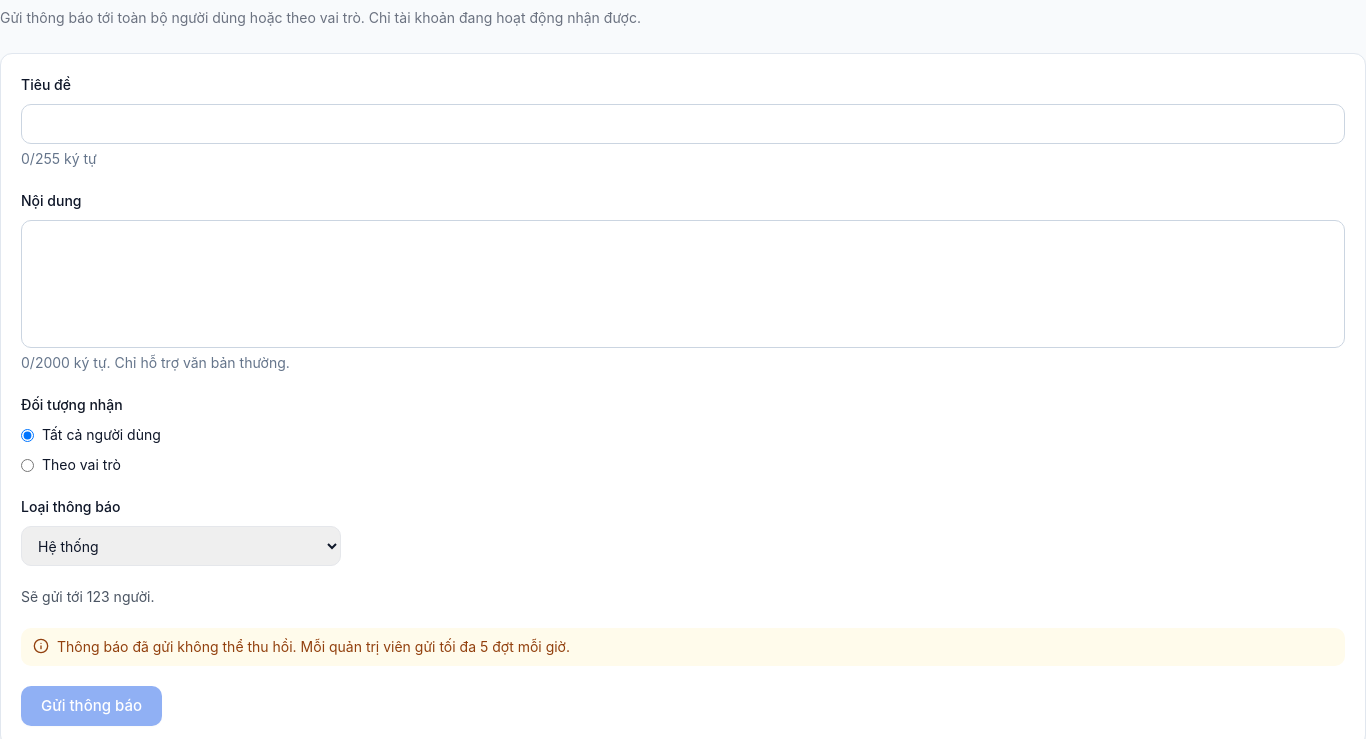
Test: AdminBroadcastNotificationsPage › gửi qua hộp xác nhận 'Gửi tới N người?', body đã trim, toast nêu số người, form được xoá
Check: the text "Sẽ gửi tới 123 người." is shown, box [21, 588, 154, 605]
Type "  Bảo trì hệ thống  " into the field labelled "Tiêu đề" at (683, 124), box [21, 104, 1345, 144]
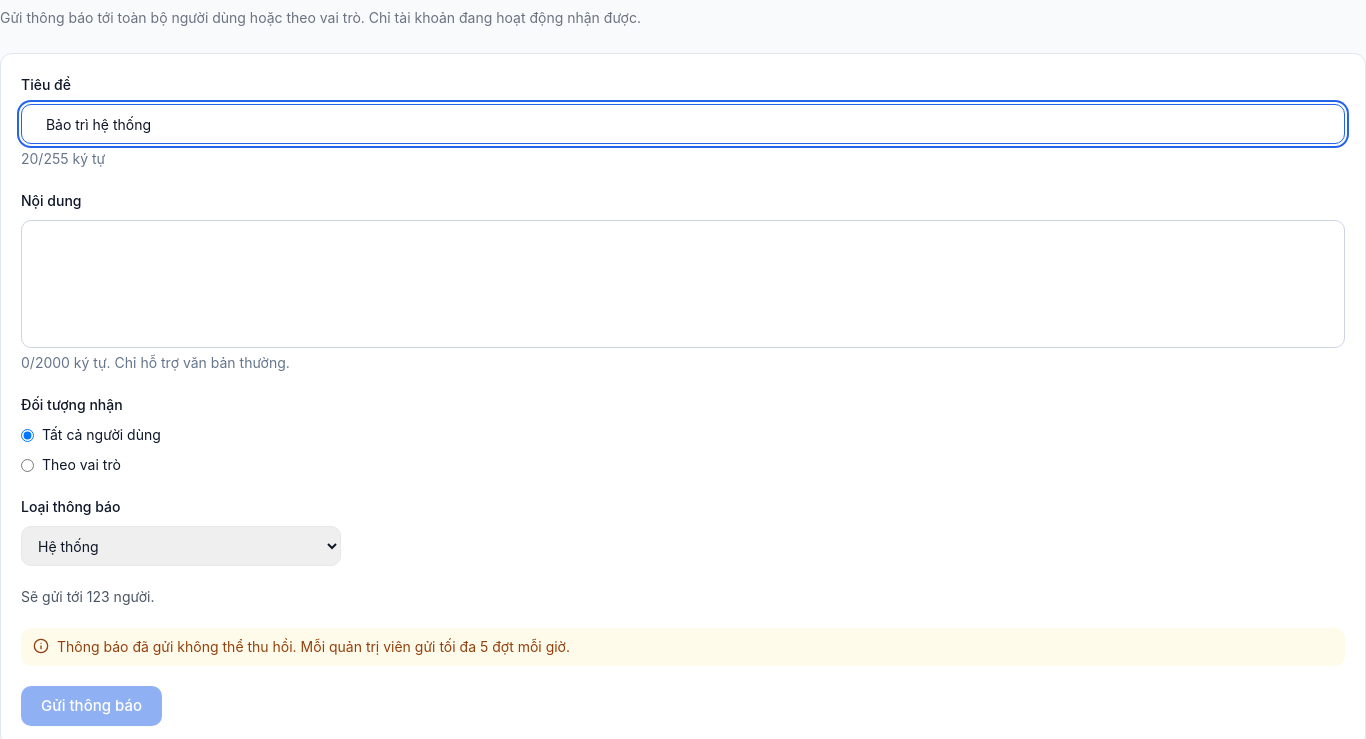
Type "Hệ thống bảo trì lúc 22h" into the text box labelled "Nội dung" at (683, 284), box [21, 220, 1345, 348]
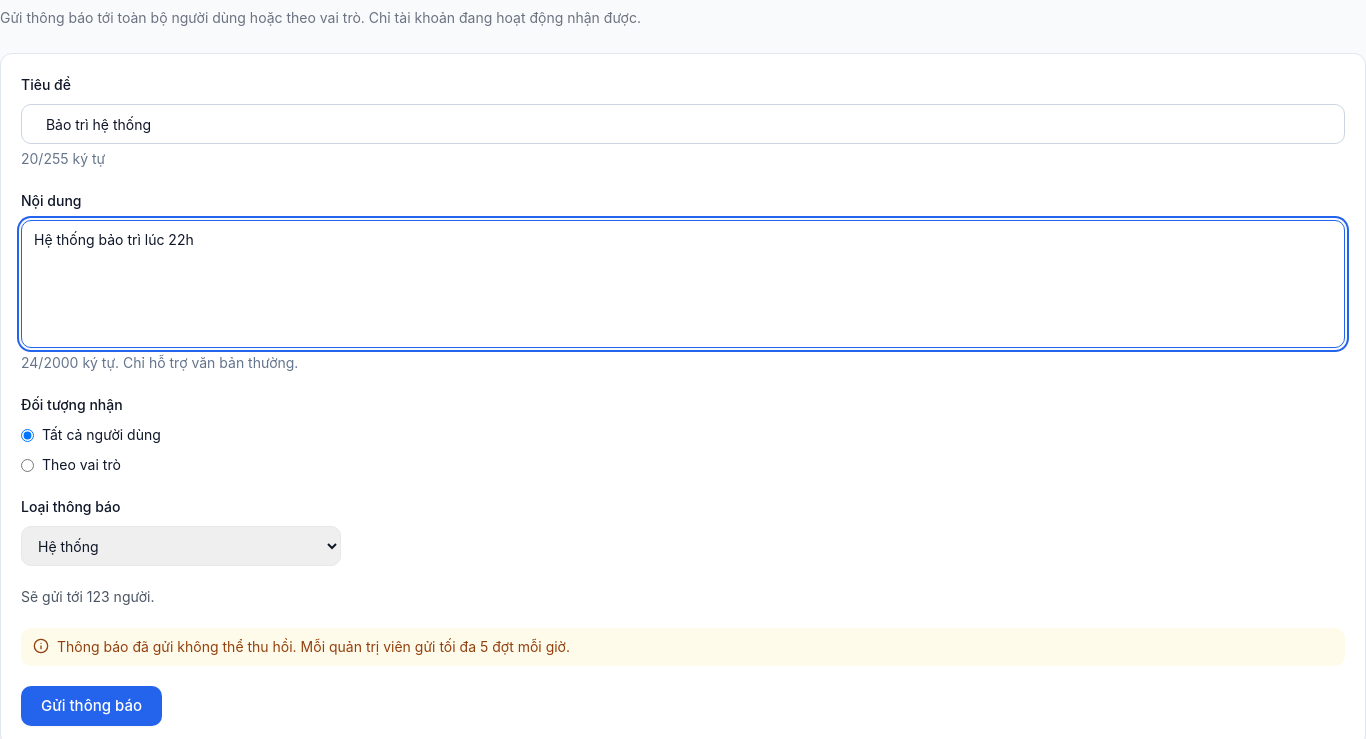
Select "Khuyến mãi" in the dropdown labelled "Loại thông báo" at (181, 546), box [21, 526, 341, 566]
(page scrolled)
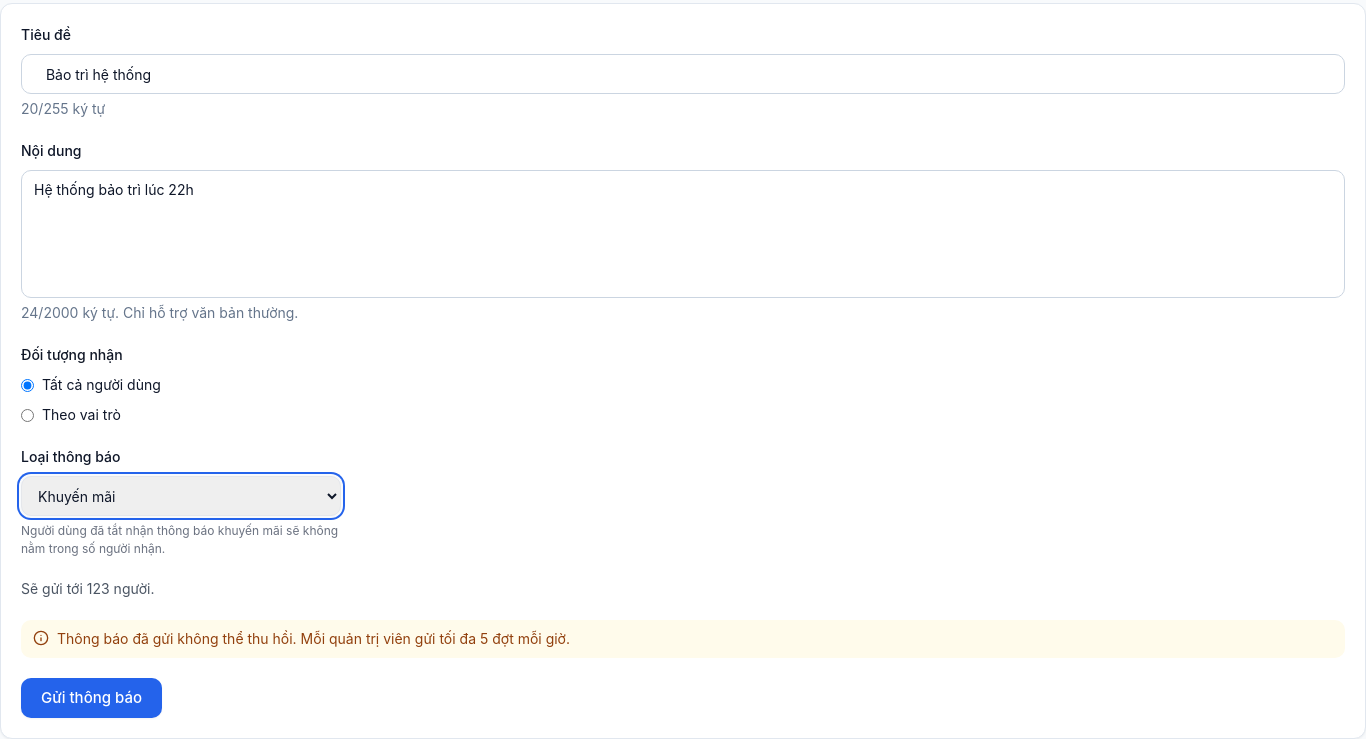
Click the button "Gửi thông báo" at (92, 698), box [21, 678, 162, 718]
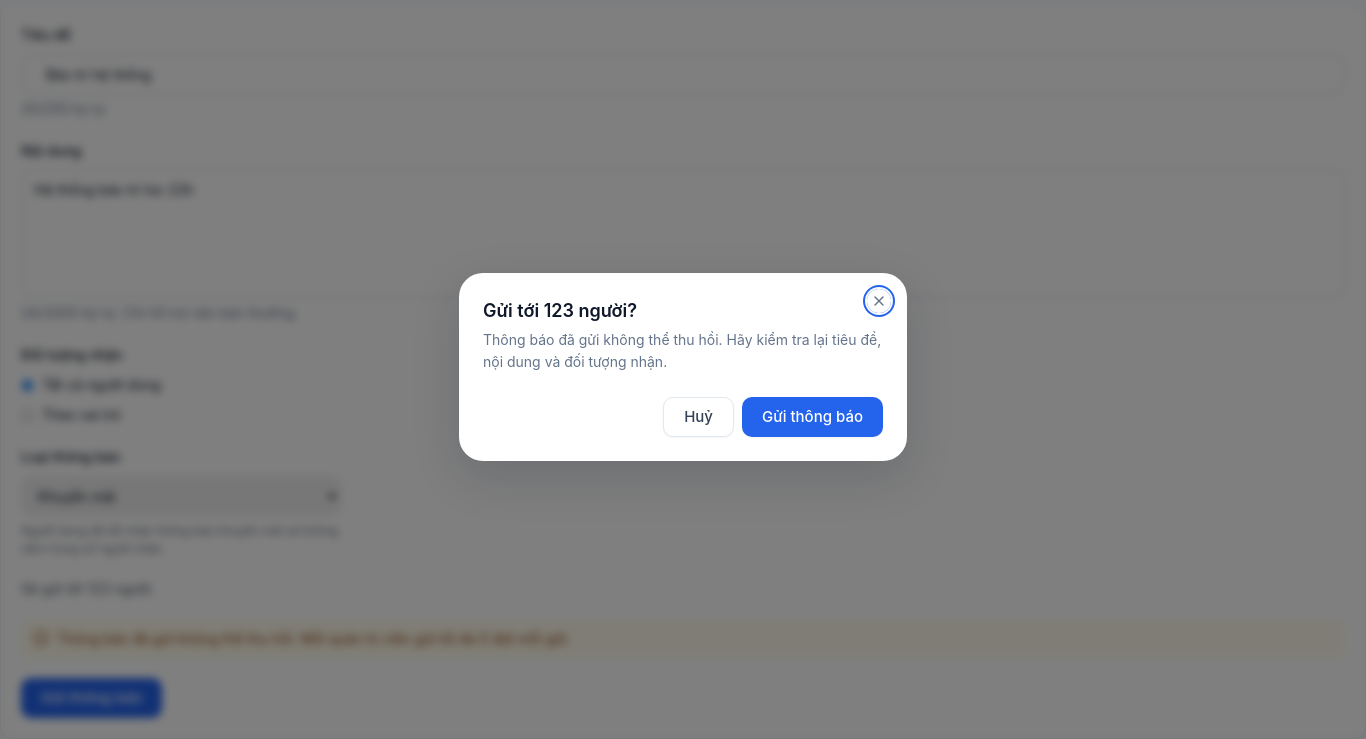
Check: the heading "Gửi tới 123 người?" is shown, box [483, 300, 637, 321]
Check: the text "không thể thu hồi" is shown, box [483, 331, 881, 370]
Click the button "Gửi thông báo" at (812, 417), box [742, 397, 883, 437]
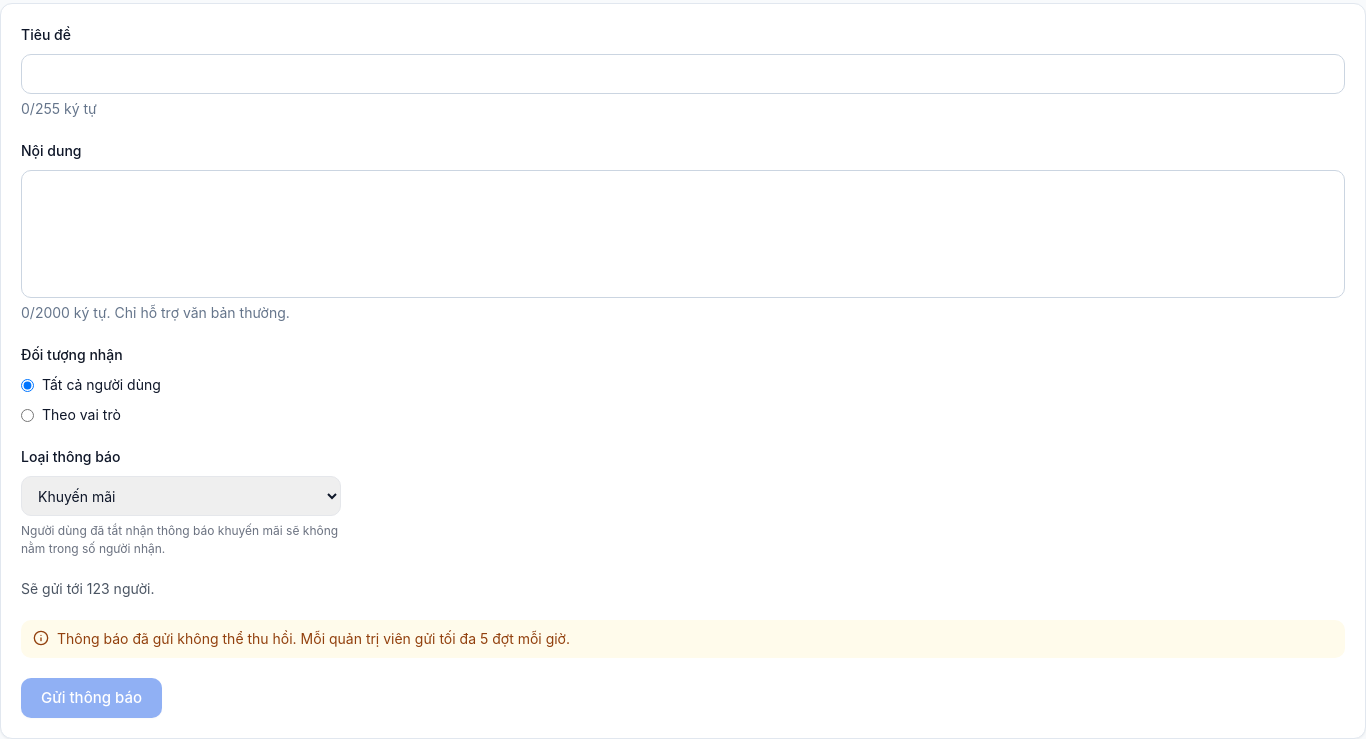
Check: the dialog is gone
Check: the field labelled "Tiêu đề" is empty, box [21, 54, 1345, 94]
